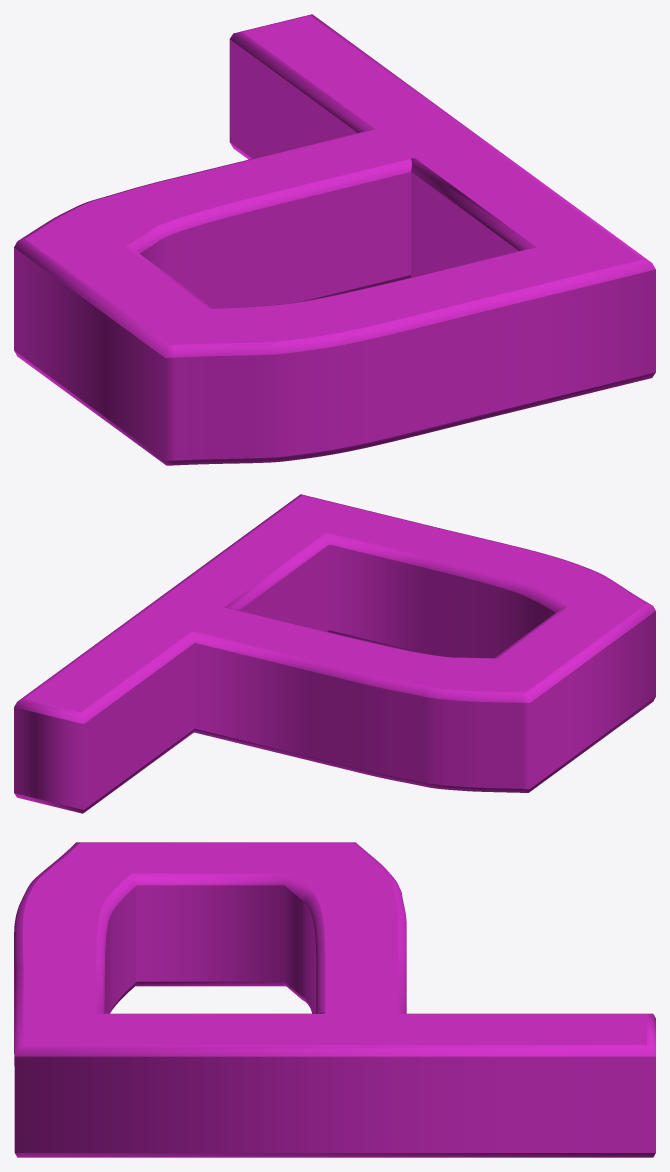
The model's file is Letter_P_Capital_CoolFont.fbx.
3 views of the same model, one above another, from view 1: azimuth 30°, elevation 25°; view 2: azimuth 150°, elevation 25°; view 3: azimuth 270°, elevation 25° (orthographic). The views are drawn at different scales.
Parts seen in each view (by area): view 1: Letter_P; view 2: Letter_P; view 3: Letter_P.
Part boxes in pixels (box(x1,y1,x2,y2)): Letter_P: box(14, 14, 655, 465); Letter_P: box(14, 494, 655, 813); Letter_P: box(14, 842, 655, 1157).
Bounding box in the file's own units: 0.5599 × 0.14 × 0.7249.
